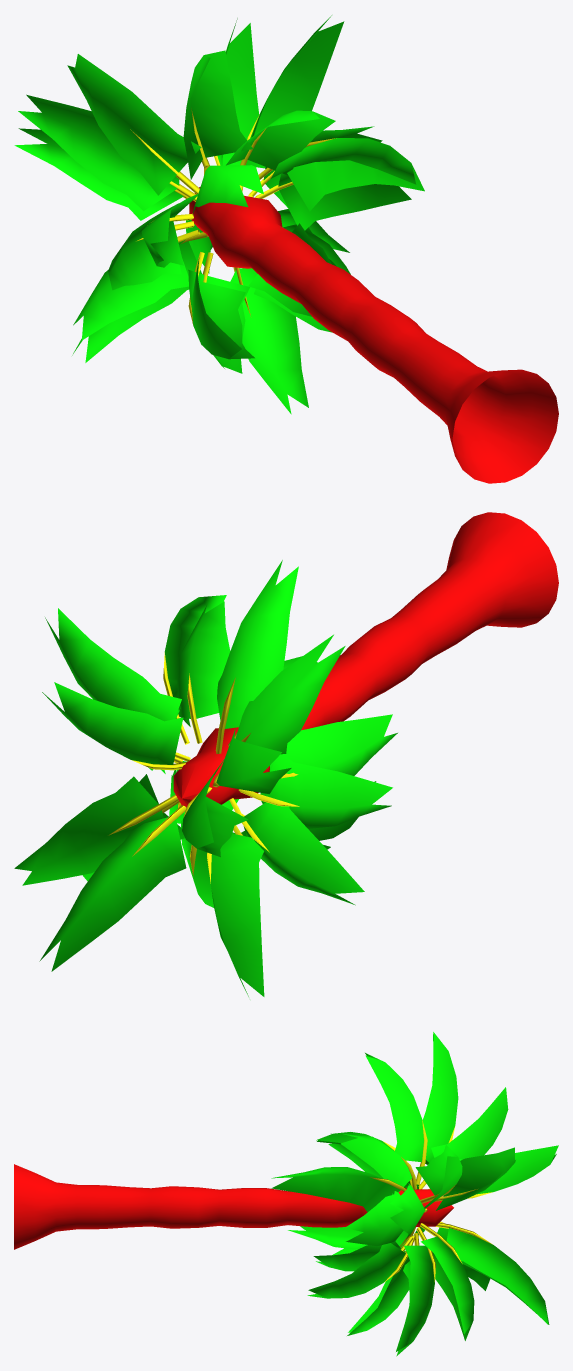
File: M_P10_Tree_1.FBX
3 renders of one model, top to bottom at view 1: azimuth 30°, elevation 25°; view 2: azimuth 150°, elevation 25°; view 3: azimuth 270°, elevation 25°, orthographic. The views are drawn at different scales.
Parts seen in each view (by area): view 1: M_P10_Tree_1_LOD0; view 2: M_P10_Tree_1_LOD0; view 3: M_P10_Tree_1_LOD0.
Part boxes in pixels (<box>): M_P10_Tree_1_LOD0: <box>14,15,558,483</box>; M_P10_Tree_1_LOD0: <box>14,512,558,996</box>; M_P10_Tree_1_LOD0: <box>14,1032,558,1356</box>.
Size of the model in its own units: 249 by 535 by 281.
